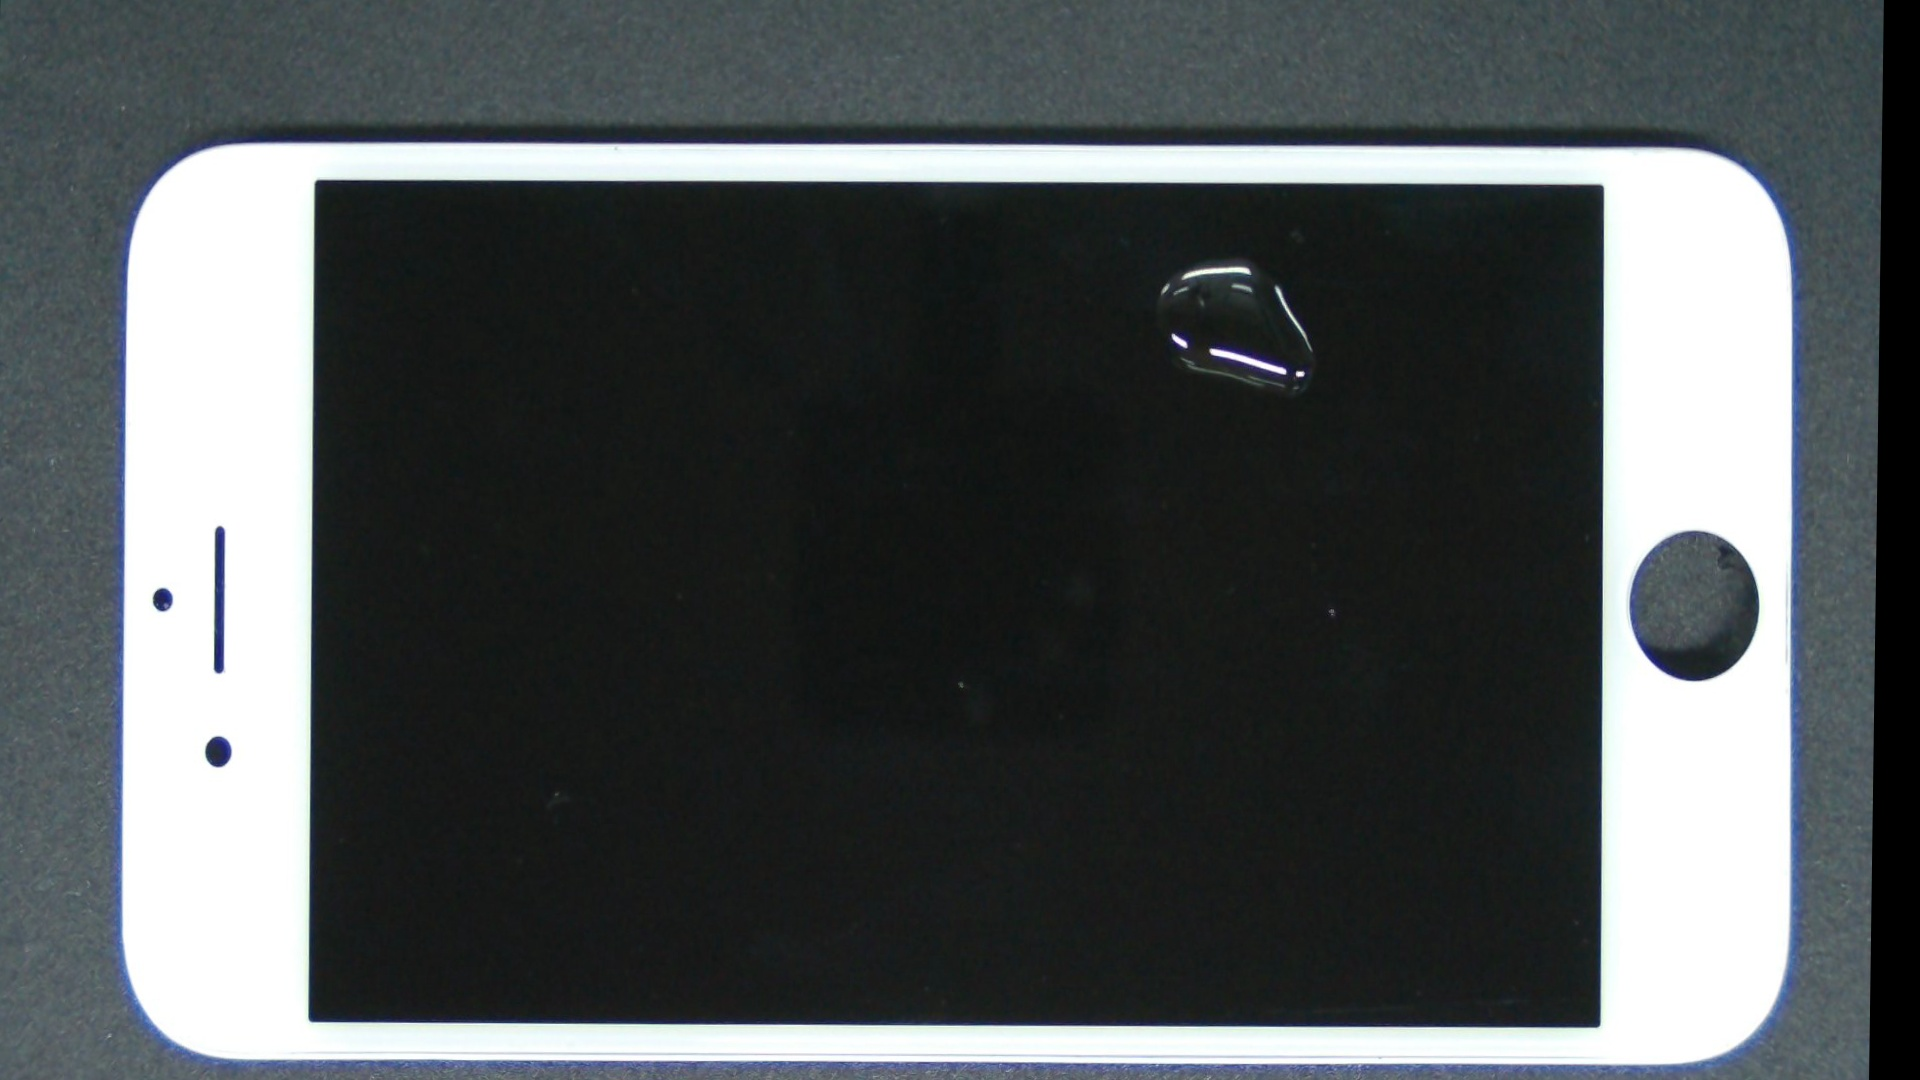oil: (616, 109, 1859, 404)
